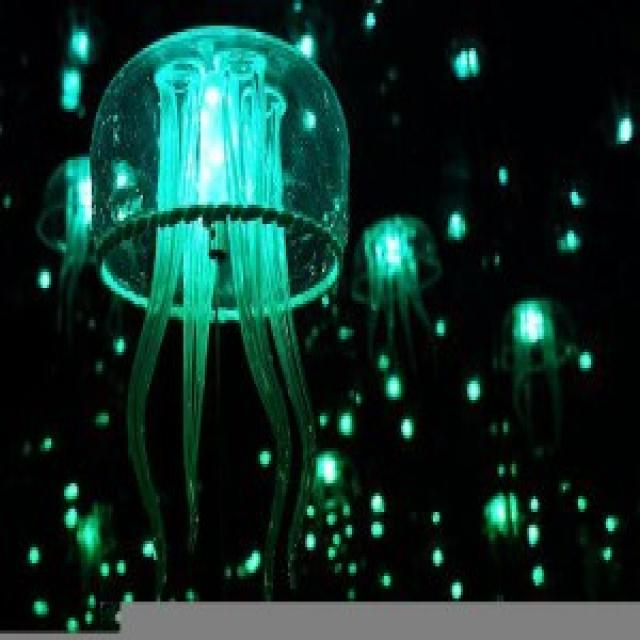Jellyfish: (85, 30, 354, 563), (34, 136, 103, 300), (359, 191, 430, 343), (508, 287, 578, 400)
